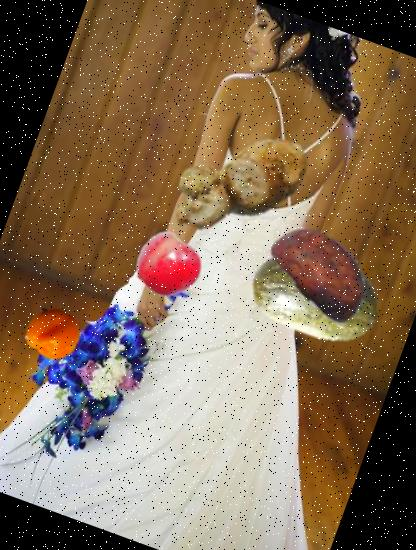Cherry: (126, 224, 209, 306)
Chestnut: (253, 200, 395, 342)
Ginger: (142, 87, 334, 278)
Melon: (231, 209, 398, 377)
Pepper: (16, 298, 88, 369)
